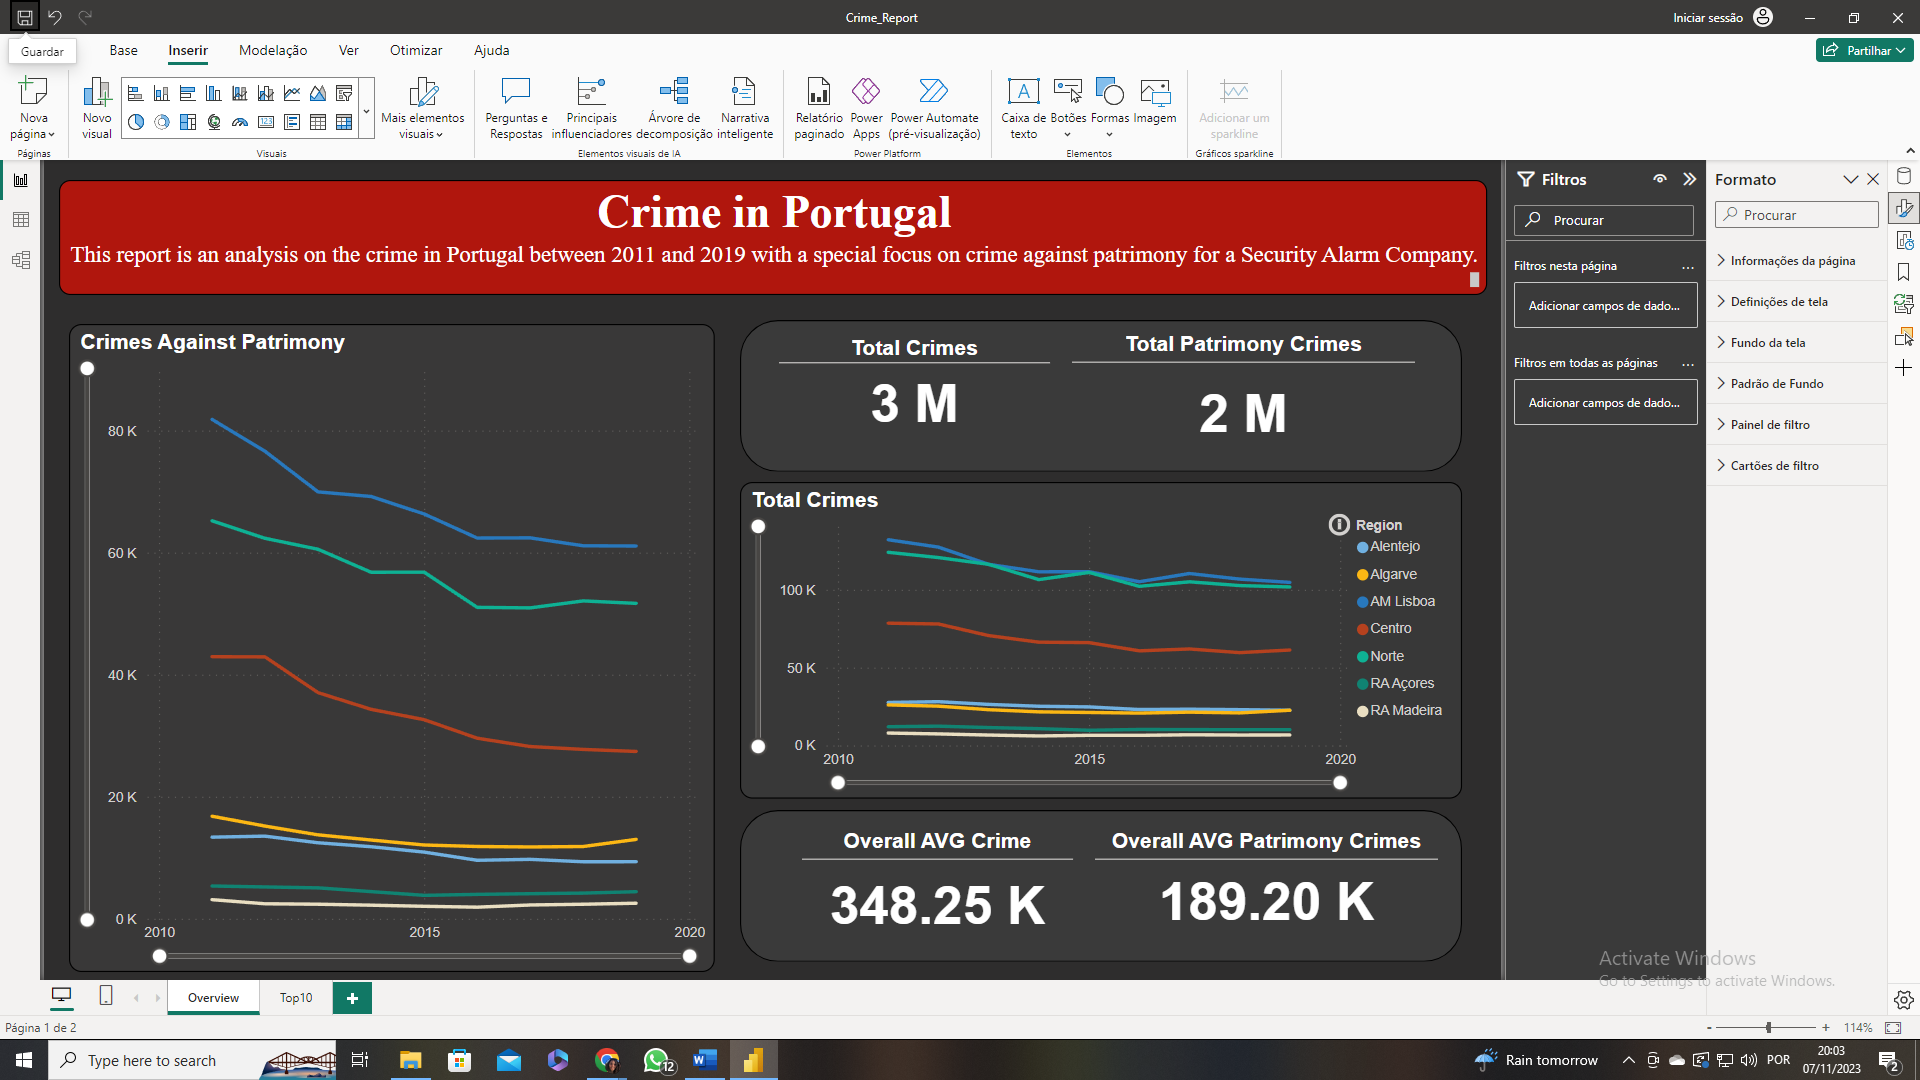

The dashboard page shown, as its layout file describes it:
{"tool":"powerbi","page":{"name":"Overview","canvas":[1280,720],"ordinal":0},"visuals":[{"type":"shape","box":[623.4,144,634,267.8],"z":500},{"type":"textbox","title":"Crime in Portugal","box":[13.2,17.6,1253.9,101],"z":1000},{"type":"card","title":"Total Patrimony Crimes","fields":{"Values":["Sum(Arranged. Crimes against patrimony)"]},"box":[924.6,168.6,301.2,93.1],"z":2000},{"type":"lineChart","title":"Total Crimes","fields":{"Category":["Arranged.Year.Variação.Hierarquia de Datas.Ano","Arranged.Year.Variação.Hierarquia de Datas.Trimestre","Arranged.Year.Variação.Hierarquia de Datas.Mês","Arranged.Year.Variação.Hierarquia de Datas.Dia"],"Series":["Arranged.REGION"],"Y":["Sum(Arranged.Total)"]},"box":[623.4,428.5,634,278.3],"z":3000},{"type":"card","title":"Total Crimes","fields":{"Values":["Sum(Arranged.Total)"]},"box":[667.3,172.1,238,89.6],"z":4000},{"type":"card","title":"AVG Crime per Year","fields":{"Values":["Sum(Updated_Crime_Average.Avg_Total)"]},"box":[667.3,288.9,238,100.1],"z":5000},{"type":"card","title":"AVG Patrimony Crimes per Year","fields":{"Values":["Sum(Updated_Crime_Average.Avg_Patrimony)"]},"box":[924.6,288.9,301.2,93.1],"z":6000},{"type":"lineChart","title":"Crimes Against Patrimony ","fields":{"Category":["Arranged.Year.Variação.Hierarquia de Datas.Ano","Arranged.Year.Variação.Hierarquia de Datas.Trimestre","Arranged.Year.Variação.Hierarquia de Datas.Mês","Arranged.Year.Variação.Hierarquia de Datas.Dia"],"Series":["Arranged.REGION"],"Y":["Sum(Arranged. Crimes against patrimony)"]},"box":[22.2,143.6,566.6,569.3],"z":7000},{"type":"actionButton","box":[454,163.3,32.5,36.9],"z":8000},{"type":"actionButton","box":[1135.3,447.8,27.2,29.9],"z":9000}]}

Visuals, with their boxes on the page's 1280x720 design canvas (x1, y1, x2, y2). These are canvas units, not pixel positions in the 1920x1080 screenshot, which may show the page scaled, cropped or inside an application window:
shape: Rect(623, 144, 1257, 412)
"Crime in Portugal" textbox: Rect(13, 18, 1267, 119)
"Total Patrimony Crimes" card: Rect(925, 169, 1226, 262)
"Total Crimes" lineChart: Rect(623, 428, 1257, 707)
"Total Crimes" card: Rect(667, 172, 905, 262)
"AVG Crime per Year" card: Rect(667, 289, 905, 389)
"AVG Patrimony Crimes per Year" card: Rect(925, 289, 1226, 382)
"Crimes Against Patrimony " lineChart: Rect(22, 144, 589, 713)
actionButton: Rect(454, 163, 486, 200)
actionButton: Rect(1135, 448, 1162, 478)
